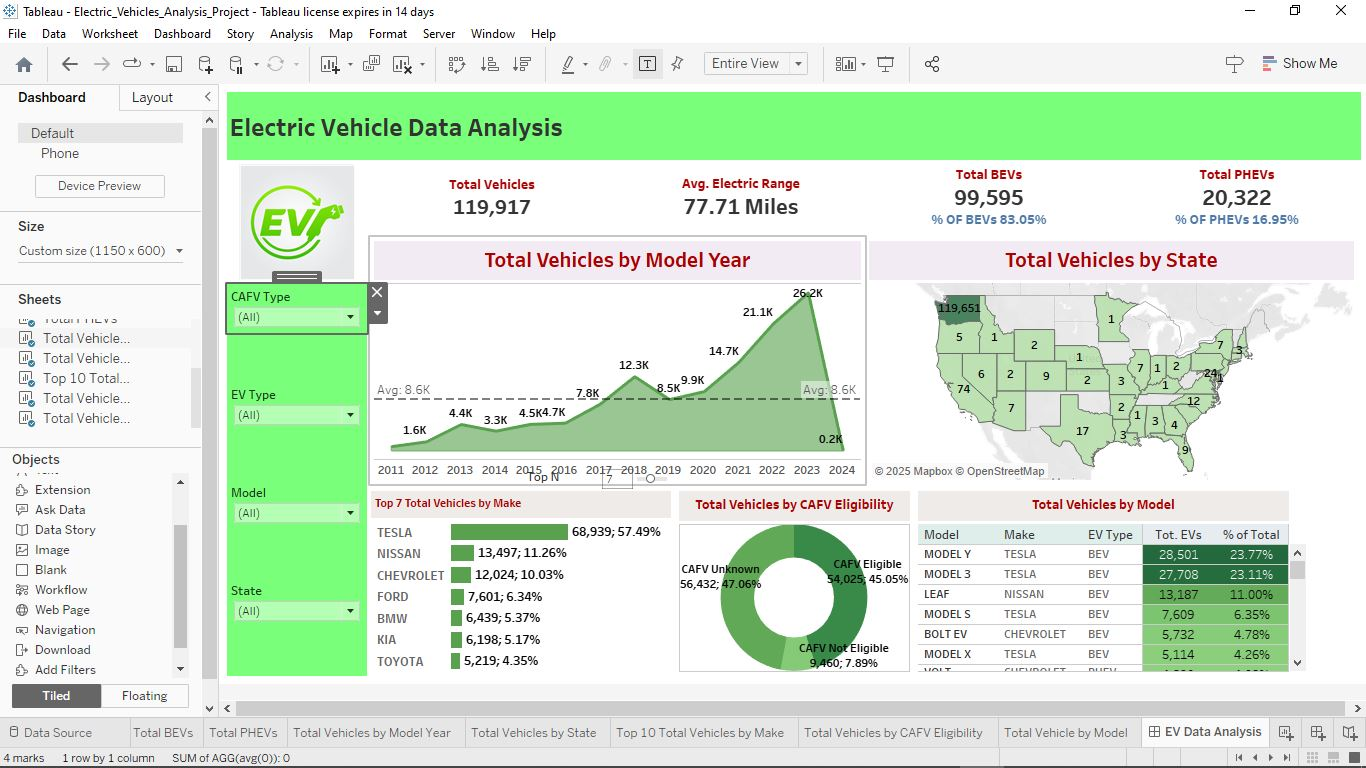

Layout of this report page (visuals, bound fields, positions):
{"tool":"tableau","page":{"name":"EV Data Analysis","canvas":[1150,600],"ordinal":0},"visuals":[{"type":"title","box":[8,8,1134,68]},{"type":"image","param":"C:/Users/sreed/Desktop/CareeR/Tableau/ev.jpg","box":[8,76,140,124]},{"type":"worksheet","title":"Total Vehicles","mark":"Automatic","box":[148,76,249,74]},{"type":"worksheet","title":"Avg. Electric Range","mark":"Automatic","box":[397,76,249,74]},{"type":"worksheet","title":"Total BEVs","mark":"Automatic","box":[646,76,248,74]},{"type":"worksheet","title":"Total PHEVs","mark":"Automatic","box":[894,76,248,74]},{"type":"worksheet","title":"Total Vehicles by Model Year","mark":"Area","rows":["Calculation_629941011287269377","Calculation_629941011287269377"],"cols":["Model Year"],"box":[151,153,494.9,247]},{"type":"worksheet","title":"Total Vehicles by State","mark":"Multipolygon","box":[645.9,153,493.1,247]},{"type":"filter","title":"Total Vehicles by Model Year","param":"[federated.1jfkedr1xmmujh1h5shmw0py0gum].[none:Clean Alternative Fuel Vehicle (C","box":[8,200,140,49]},{"type":"blank","box":[8,249,140,49]},{"type":"filter","title":"Total Vehicles by Model Year","param":"[federated.1jfkedr1xmmujh1h5shmw0py0gum].[none:Electric Vehicle Type:nk]","box":[8,298,140,49]},{"type":"blank","box":[8,347,140,49]},{"type":"parameter","param":"[Parameters].[Parameter 1]","box":[308,382,143,31]},{"type":"filter","title":"Total Vehicles by Model Year","param":"[federated.1jfkedr1xmmujh1h5shmw0py0gum].[none:Model:nk]","box":[8,396,140,49]},{"type":"worksheet","title":"Top 10 Total Vehicles by Make","mark":"Automatic","rows":["Make"],"cols":["Calculation_629941011287269377"],"box":[148,403,308,189]},{"type":"worksheet","title":"Total Vehicles by CAFV Eligibility","mark":"Pie","rows":["Calculation_1144758743738093569","Calculation_1144758743738093569"],"box":[456,403,239,189]},{"type":"worksheet","title":"Total Vehicle by Model","mark":"Square","rows":["Model","Make","Electric Vehicle Type"],"box":[695,403,447,189]},{"type":"blank","box":[8,445,140,49]},{"type":"filter","title":"Total Vehicles by Model Year","param":"[federated.1jfkedr1xmmujh1h5shmw0py0gum].[none:State:nk]","box":[8,494,140,49]},{"type":"blank","box":[8,543,140,49]}]}

Visuals, with their boxes on the page's 1150x600 design canvas (x1, y1, x2, y2). These are canvas units, not pixel positions in the 1366x768 screenshot, which may show the page scaled, cropped or inside an application window:
title: [8,8,1142,76]
image: [8,76,148,200]
"Total Vehicles" worksheet: [148,76,397,150]
"Avg. Electric Range" worksheet: [397,76,646,150]
"Total BEVs" worksheet: [646,76,894,150]
"Total PHEVs" worksheet: [894,76,1142,150]
"Total Vehicles by Model Year" worksheet (Area marks): [151,153,646,400]
"Total Vehicles by State" worksheet (Multipolygon marks): [646,153,1139,400]
"Total Vehicles by Model Year" filter: [8,200,148,249]
blank: [8,249,148,298]
"Total Vehicles by Model Year" filter: [8,298,148,347]
blank: [8,347,148,396]
parameter: [308,382,451,413]
"Total Vehicles by Model Year" filter: [8,396,148,445]
"Top 10 Total Vehicles by Make" worksheet: [148,403,456,592]
"Total Vehicles by CAFV Eligibility" worksheet (Pie marks): [456,403,695,592]
"Total Vehicle by Model" worksheet (Square marks): [695,403,1142,592]
blank: [8,445,148,494]
"Total Vehicles by Model Year" filter: [8,494,148,543]
blank: [8,543,148,592]
